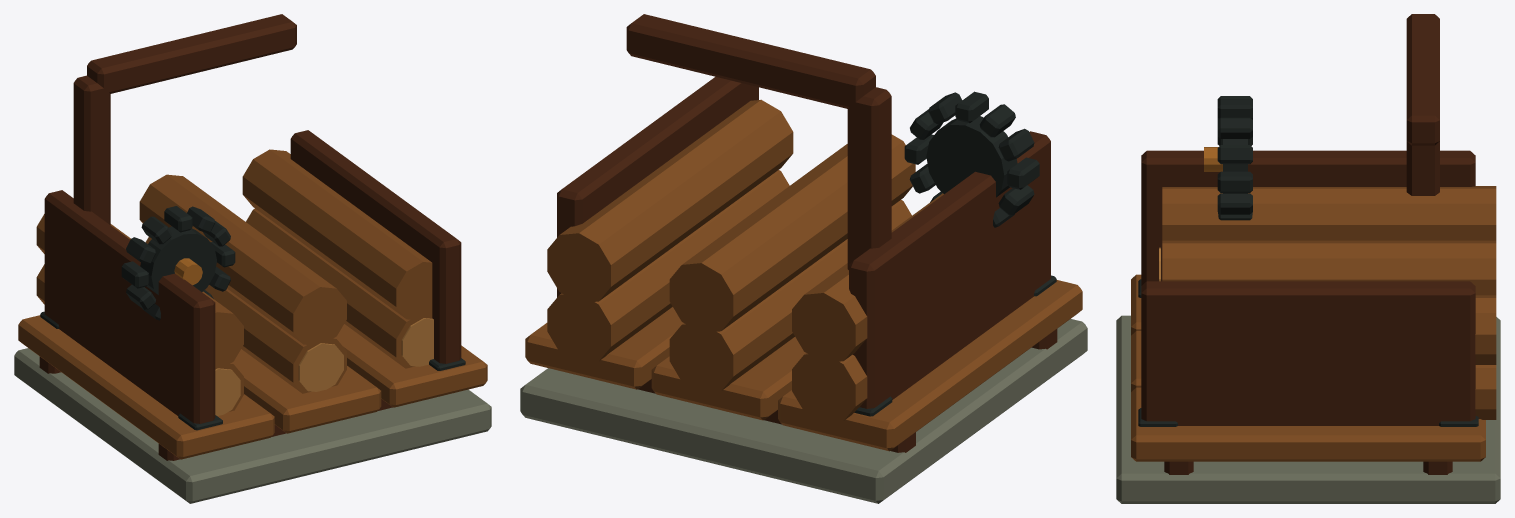
File: lumber.glb
3 renders of one model, left to right at view 1: azimuth 30°, elevation 25°; view 2: azimuth 150°, elevation 25°; view 3: azimuth 270°, elevation 25°, orthographic. The views are drawn at different scales.
Visible parts, largest first — view 1: lumber_body, Hub.005; view 2: lumber_body, Hub.005; view 3: lumber_body, Hub.005.
Boxes of the visible parts, x1,y1,x2,y2 form: lumber_body: [14, 14, 491, 503]; Hub.005: [121, 206, 235, 320]; lumber_body: [520, 14, 1087, 503]; Hub.005: [904, 91, 1039, 227]; lumber_body: [1116, 14, 1500, 503]; Hub.005: [1204, 96, 1252, 220].
Bounding box in the file's own units: 1.89 × 1.88 × 1.84.
